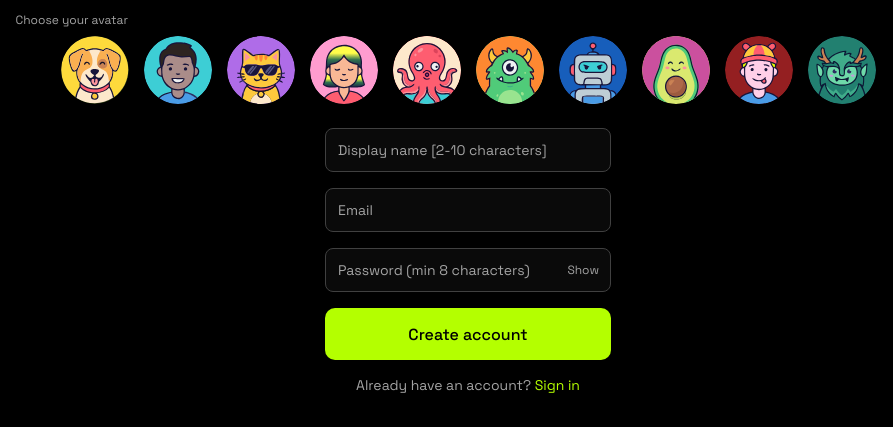
SignupForm › keeps every typed value and the chosen avatar after a failed submission (req 5, ACC-3)
Click the radio button named "Avatar 3". click: {"x": 260, "y": 70}
box: [226, 36, 294, 104]
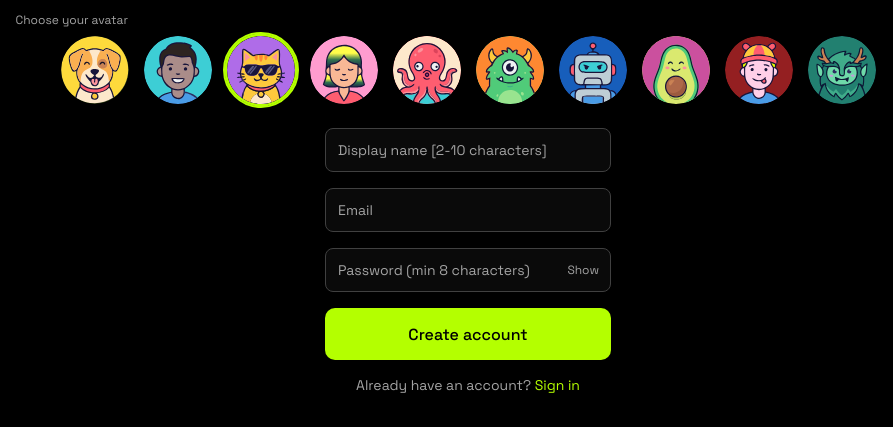
Type "Player" into the field labelled "Display name". click: {"x": 468, "y": 150}
box: [325, 128, 611, 172]
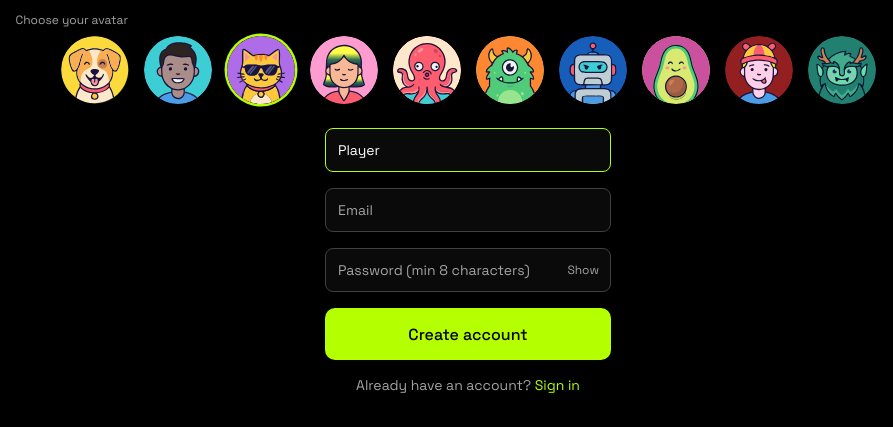
Type "taken@example.com" into the field labelled "Email". click: {"x": 468, "y": 210}
box: [325, 188, 611, 232]
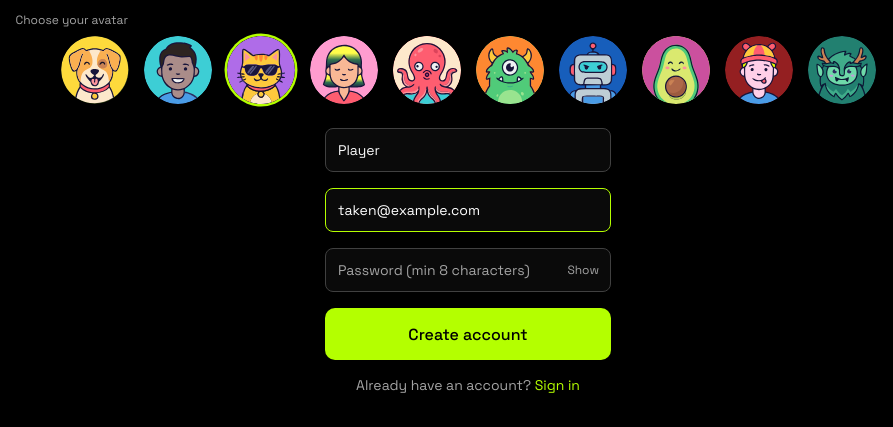
Type "longenoughpassword" into the password field labelled "Password". click: {"x": 468, "y": 270}
box: [325, 248, 611, 292]
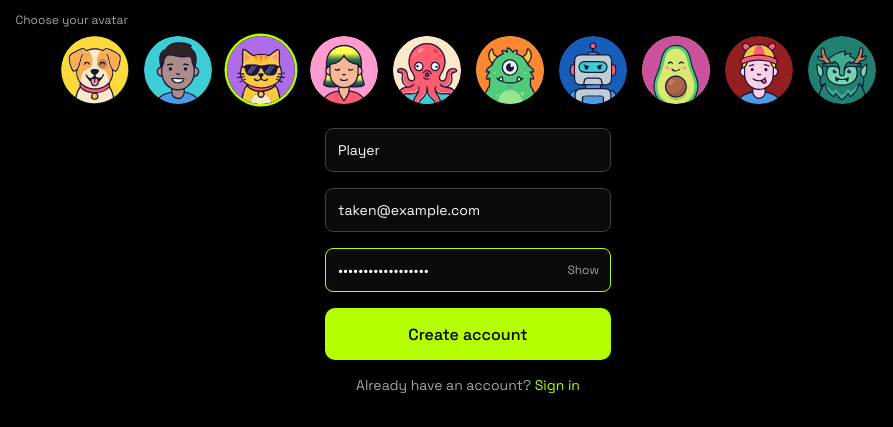
Click the button "Create account". click: {"x": 468, "y": 334}
box: [325, 308, 611, 360]
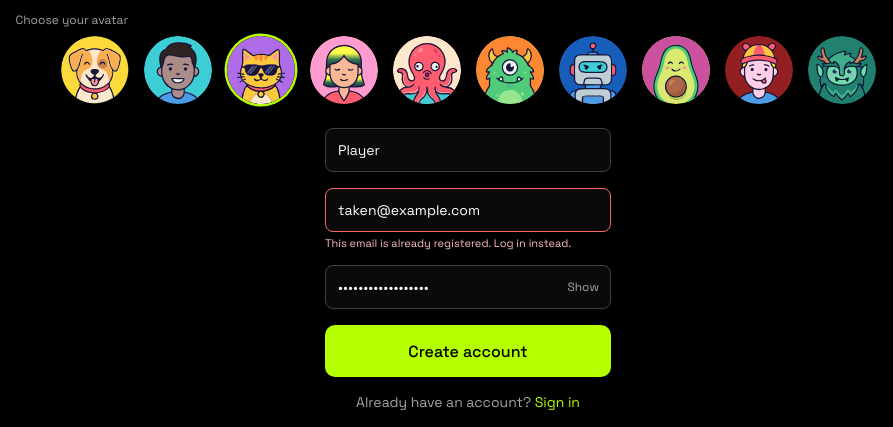
Result: the text "This email is already registered. Log in instead." is shown at [325, 238, 611, 249]
